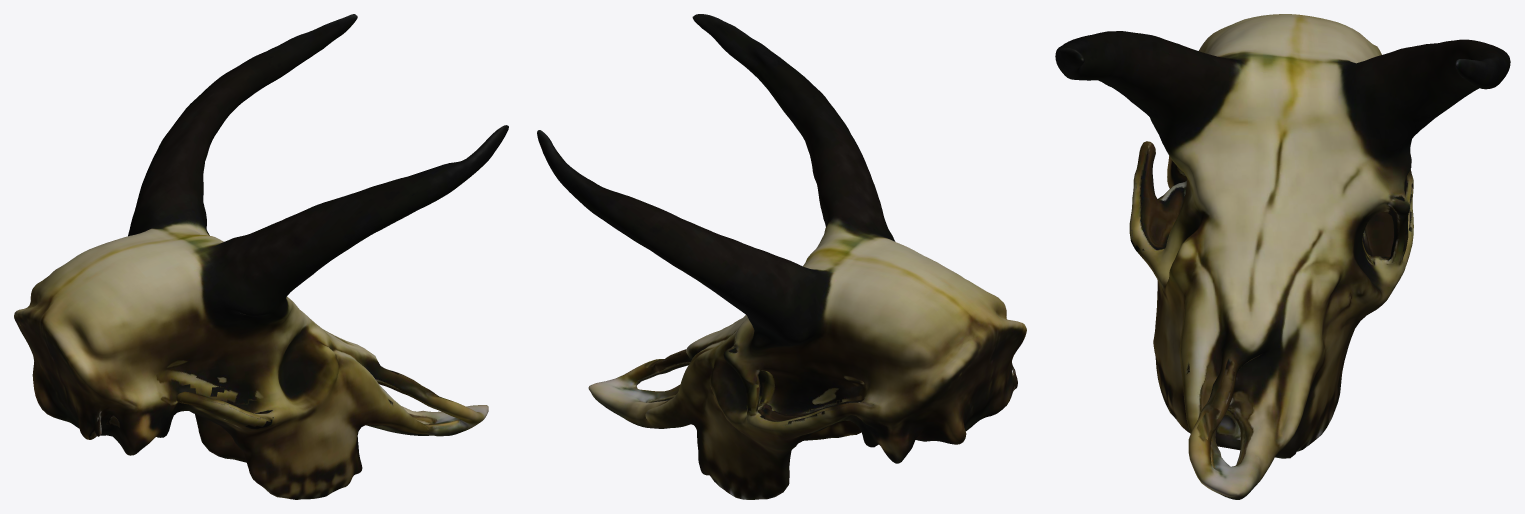
The model's file is horned_animal_skull.fbx.
The picture shows the model from 3 angles, left to right: view 1: azimuth 30°, elevation 25°; view 2: azimuth 150°, elevation 25°; view 3: azimuth 270°, elevation 25°; orthographic projection. The views are drawn at different scales.
Visible parts, largest first — view 1: mesh; view 2: mesh; view 3: mesh.
Part boxes in pixels (x1=…): mesh: x1=14, y1=14, x2=508, y2=499; mesh: x1=537, y1=14, x2=1026, y2=499; mesh: x1=1055, y1=14, x2=1510, y2=499.
Bounding box in the file's own units: 99.75 × 84.88 × 75.23.
